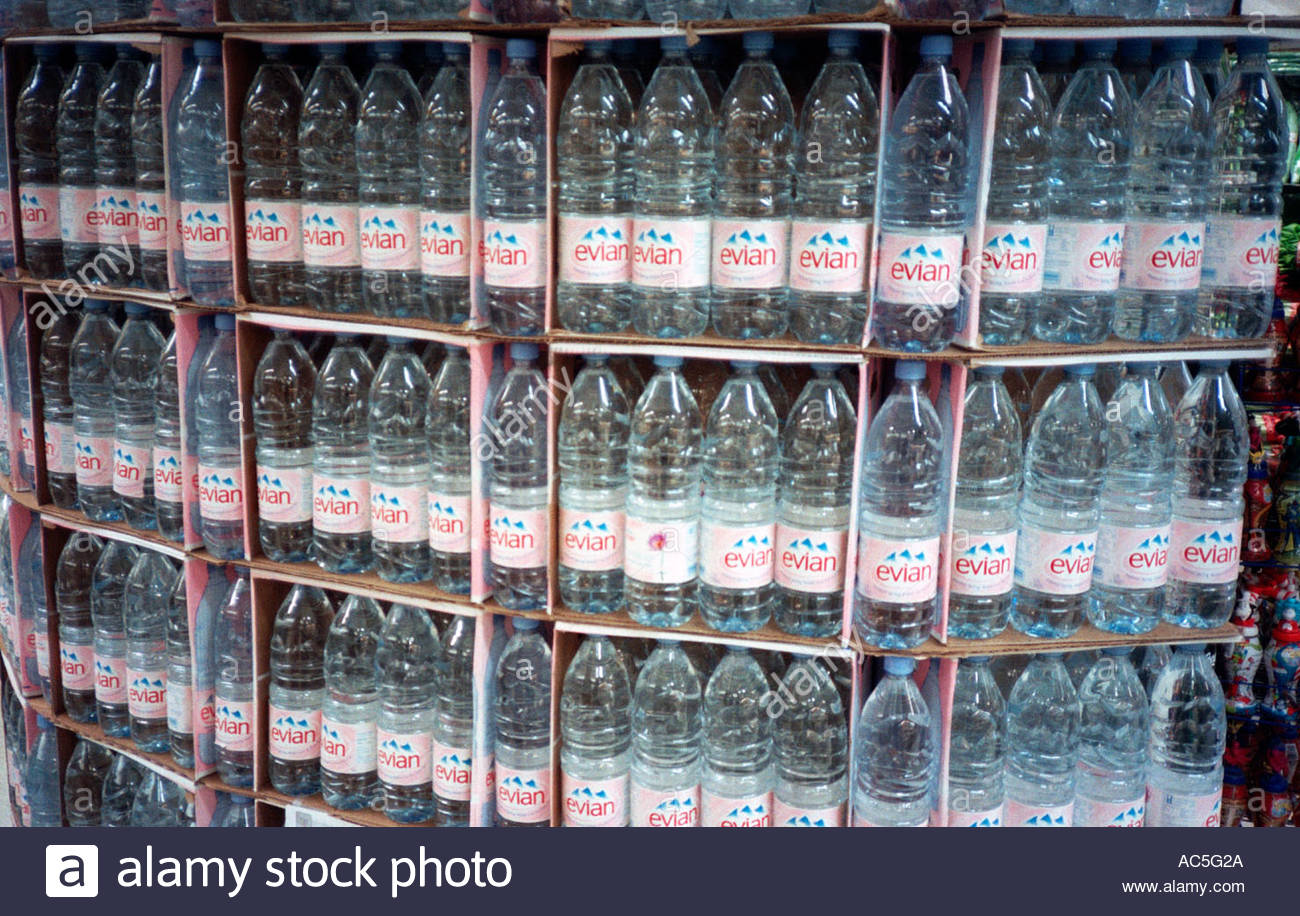evian: (879, 29, 969, 353), (860, 353, 939, 648), (791, 38, 866, 345), (633, 42, 708, 336), (718, 41, 791, 333), (979, 45, 1049, 346), (479, 34, 547, 335), (777, 367, 851, 635), (949, 367, 1022, 636), (561, 43, 627, 332), (168, 38, 238, 307), (706, 362, 771, 632), (485, 346, 549, 613), (632, 355, 693, 627), (368, 336, 434, 583), (302, 42, 361, 313), (563, 355, 624, 617), (192, 312, 249, 560), (312, 331, 370, 573), (374, 600, 434, 821), (267, 585, 322, 796)
